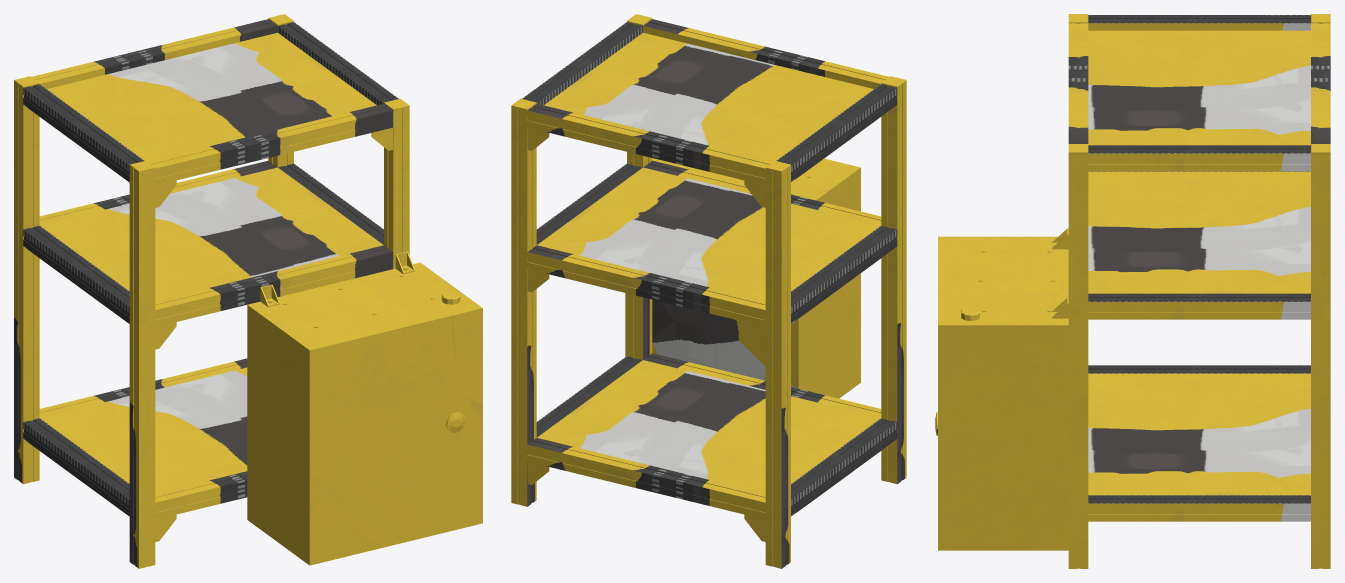
Rendered from anquan02.FBX.
3 views of the same model, side by side, from view 1: azimuth 30°, elevation 25°; view 2: azimuth 150°, elevation 25°; view 3: azimuth 270°, elevation 25° (orthographic). The views are drawn at different scales.
Visible parts, largest first — view 1: YF_Model_anquan; view 2: YF_Model_anquan; view 3: YF_Model_anquan.
Part boxes in pixels (left/top/right/bottom): YF_Model_anquan: left=14, top=14, right=482, bottom=568; YF_Model_anquan: left=511, top=14, right=906, bottom=568; YF_Model_anquan: left=935, top=14, right=1330, bottom=568.
Bounding box in the file's own units: 52 × 70.2 × 60.4.
Materials: 1 (1 with a texture image).
